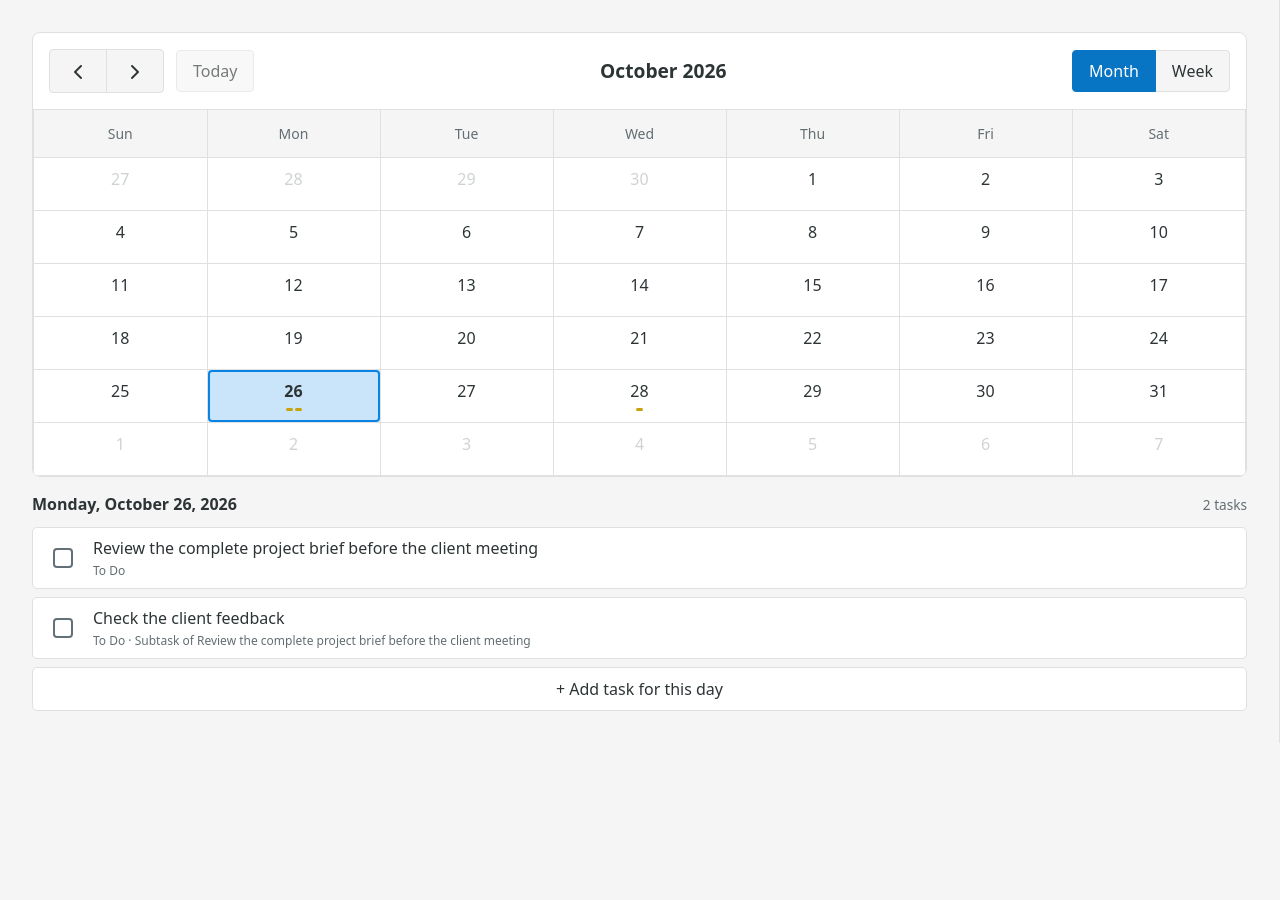
Test: mobile month calendar › shows the empty day state and follows month navigation
The image size is (1280, 900).
Click the 2nd button "27" at (466, 396), box [380,370,552,422]
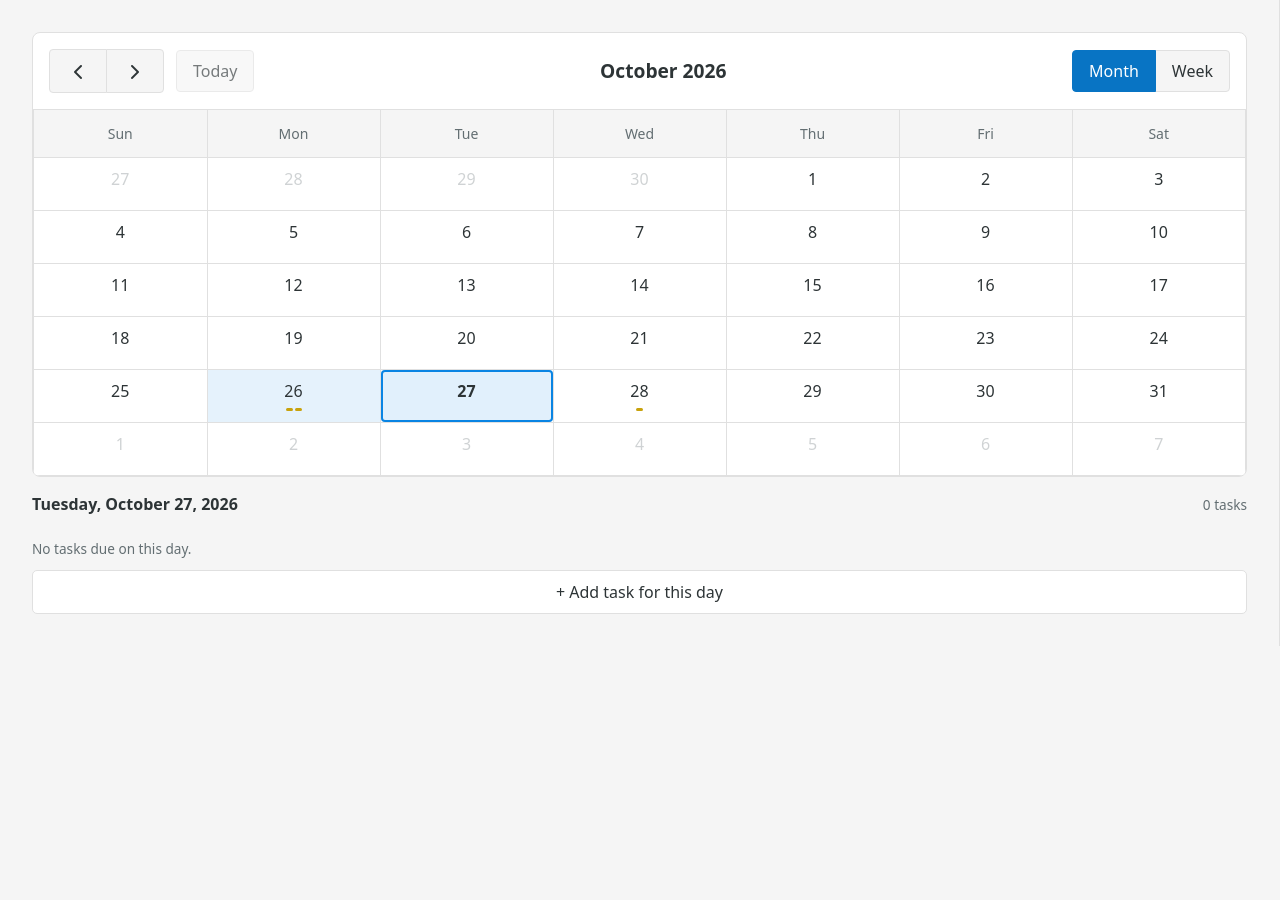
Expected: the text "No tasks due on this day." is shown, [32,539,192,558]
Click the button named "next month" at (135, 71), box [106,49,164,93]
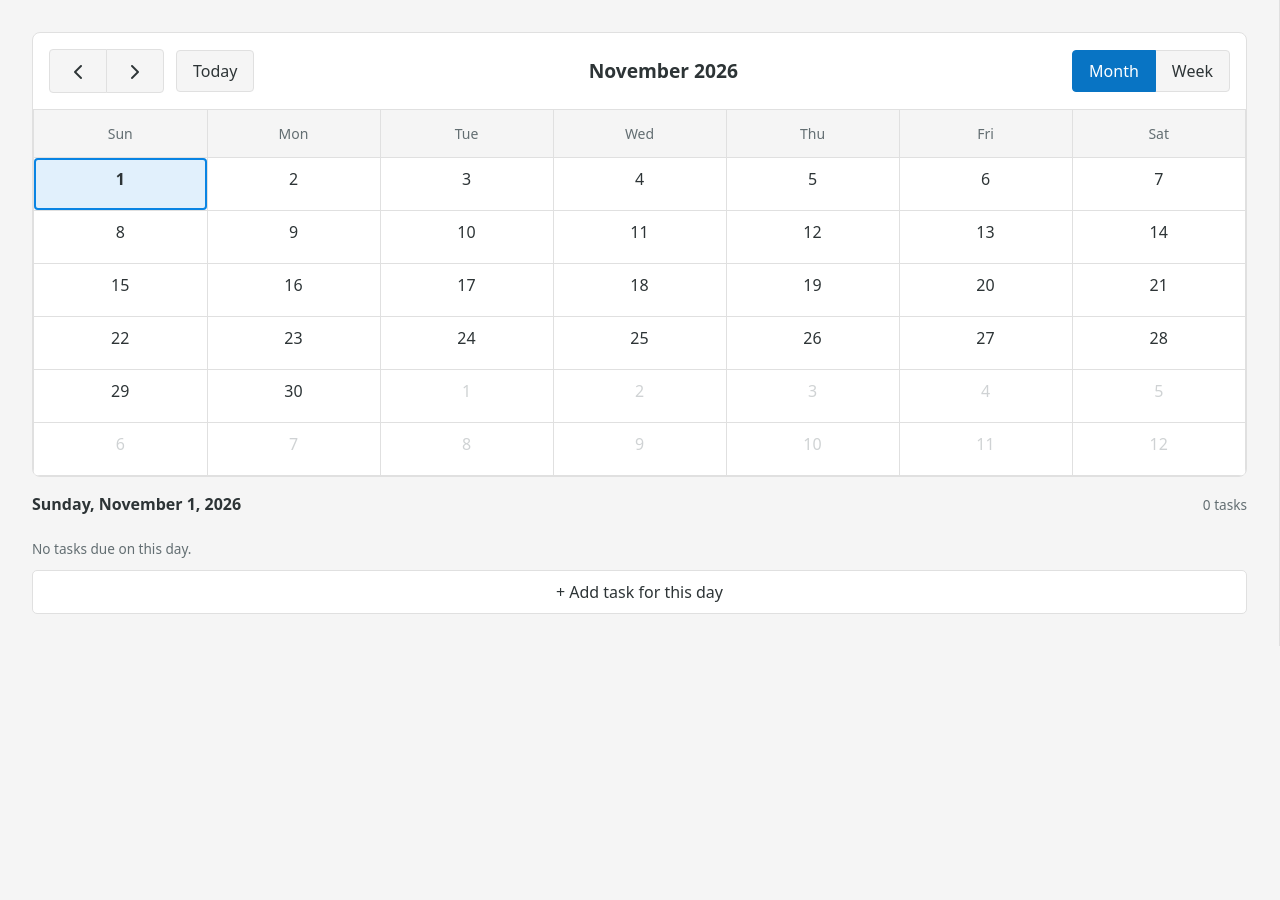
Expected: the heading "Sunday, November 1, 2026" is shown, [32,493,241,515]
